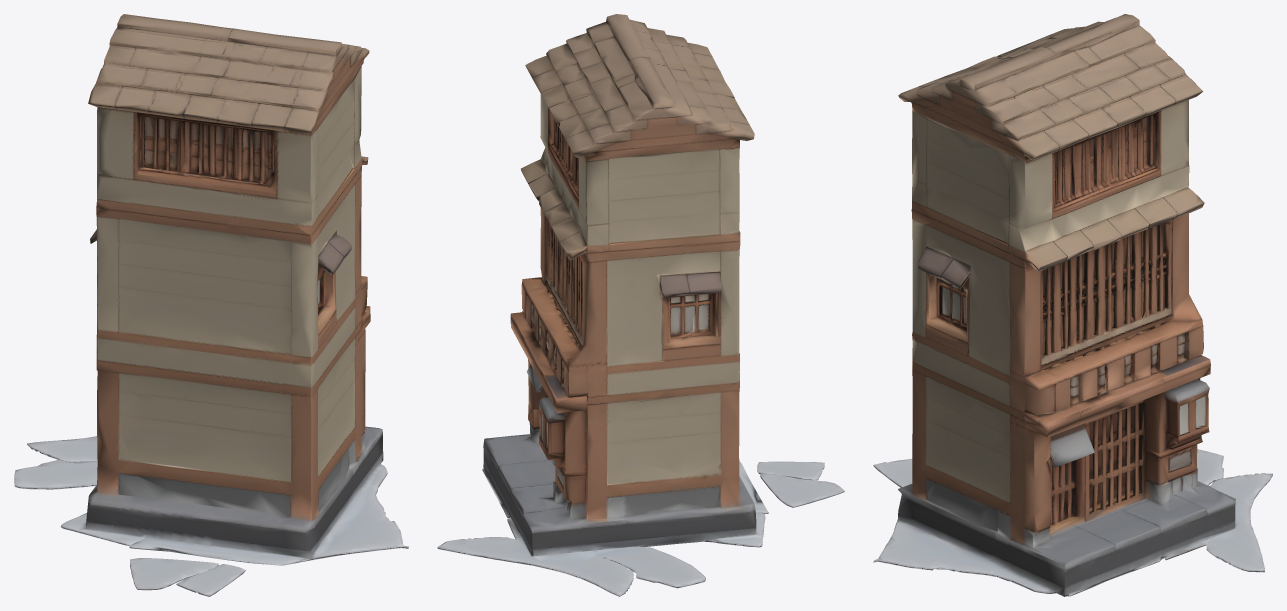
The model's file is hareyoshi.glb.
The picture shows the model from 3 angles, left to right: view 1: azimuth 30°, elevation 25°; view 2: azimuth 150°, elevation 25°; view 3: azimuth 270°, elevation 25°; orthographic projection. The views are drawn at different scales.
Parts seen in each view (by area): view 1: tripo_node_872aa6bd-679c-4320-ab70-4971f81c7ee4; view 2: tripo_node_872aa6bd-679c-4320-ab70-4971f81c7ee4; view 3: tripo_node_872aa6bd-679c-4320-ab70-4971f81c7ee4.
Boxes of the visible parts, left/top/right/bottom form: tripo_node_872aa6bd-679c-4320-ab70-4971f81c7ee4: left=14, top=14, right=408, bottom=596; tripo_node_872aa6bd-679c-4320-ab70-4971f81c7ee4: left=437, top=14, right=844, bottom=596; tripo_node_872aa6bd-679c-4320-ab70-4971f81c7ee4: left=873, top=14, right=1272, bottom=596.
Size of the model in its own units: 0.6977 by 1 by 0.7684.
Materials: 1 (1 with a texture image).
